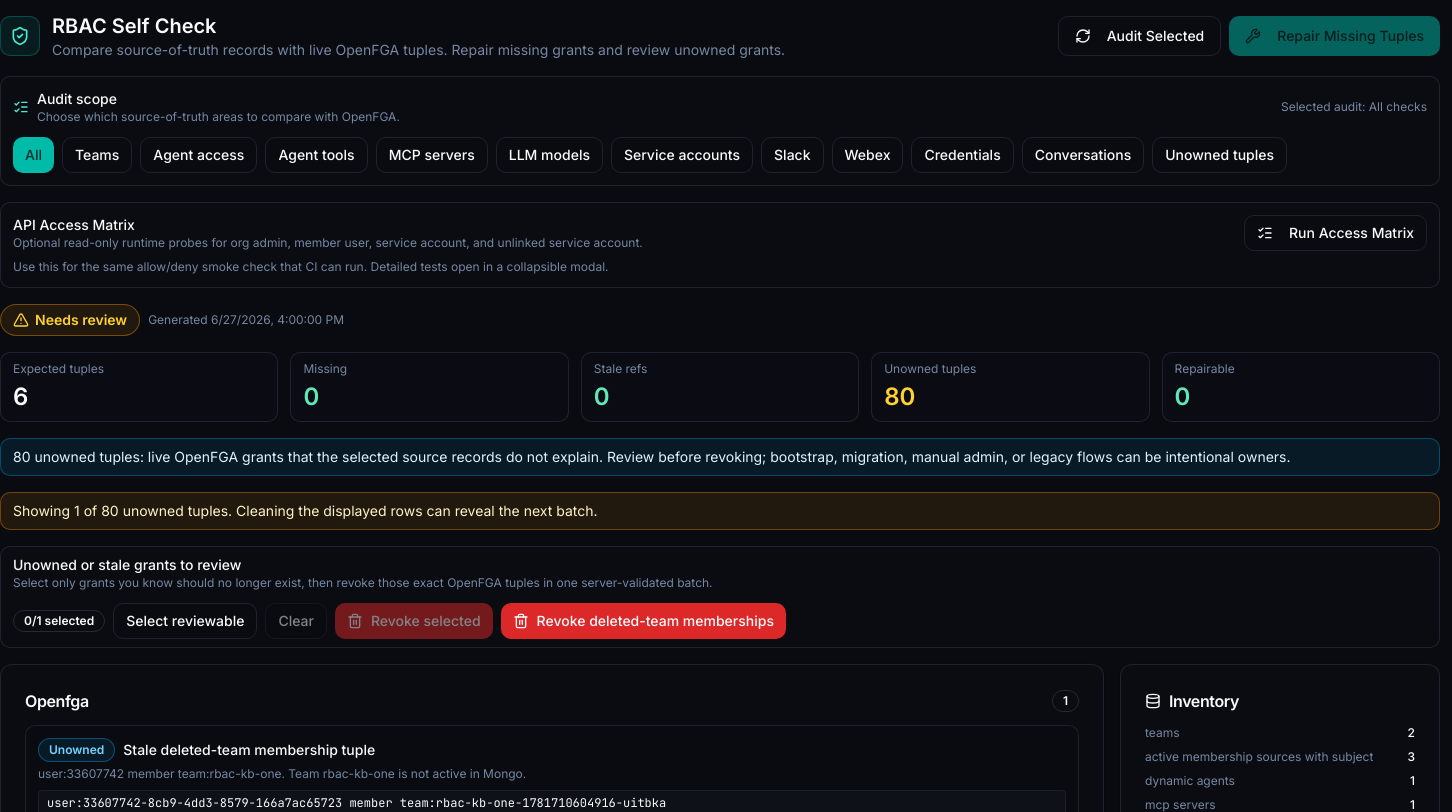
it: revokes all stale deleted-team membership candidates with a dedicated action
Expected: the text "Stale deleted-team membership tuple" is shown, [123,740,375,760]
Expected: the text "Showing 1 of 80 unowned tuples. Cleaning the displayed rows can reveal the next batch." is shown, [0,492,1440,530]
Step 1. Click the button "Revoke deleted-team memberships" → click(643, 621), box [501,603,786,639]
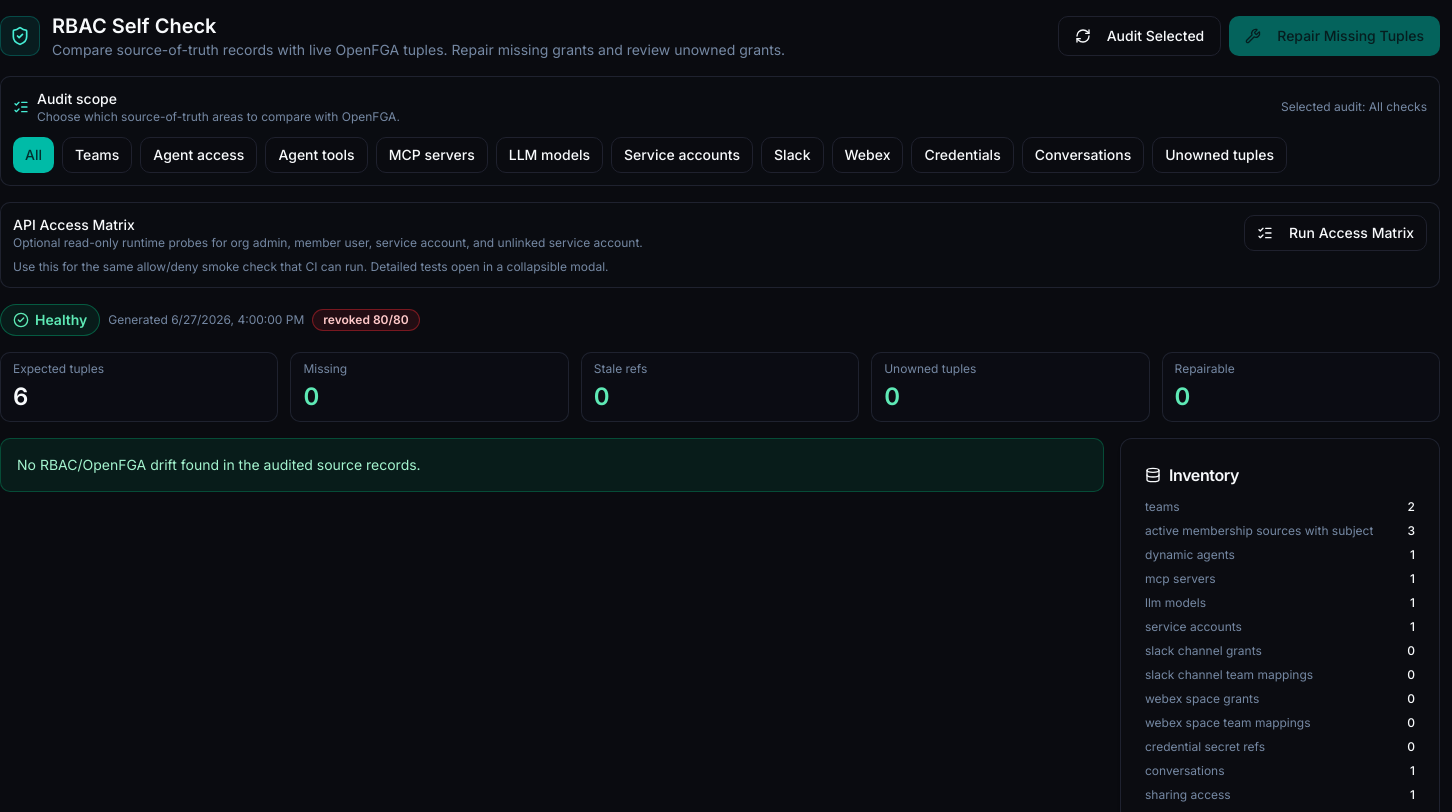
Result: the text "revoked 80/80" is shown at [312,309,420,331]
